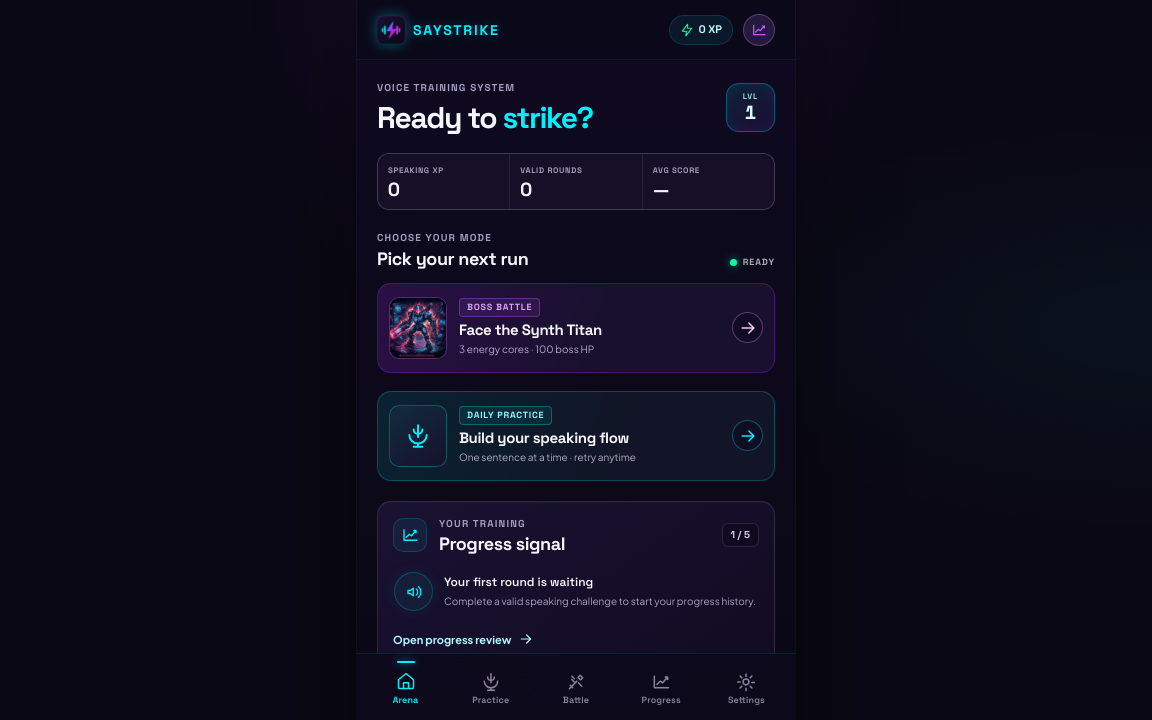
Test: SayStrike app shell and microphone recovery › keeps local recording available when server speech evaluation is not configured
What coordinates should you click on to do the following:
click the button "Build your speaking flow"
I would click on:
 (576, 436)
Its box is [377,391,775,481].
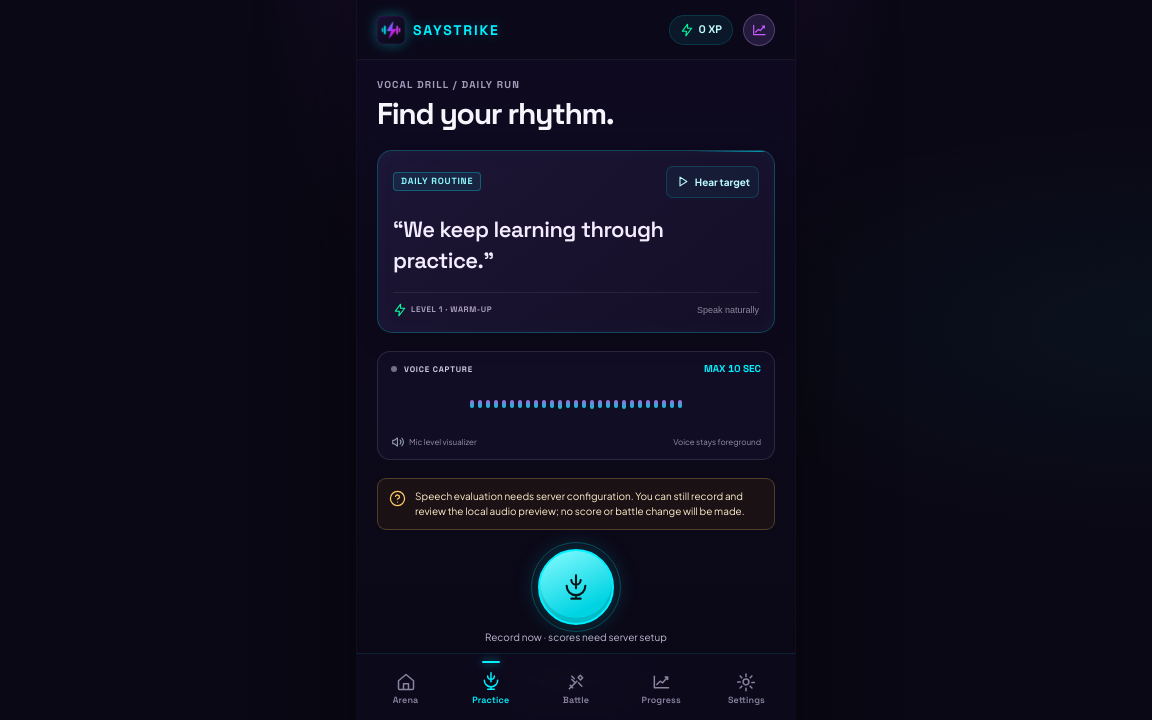
expect the button named "start recording" is enabled: met, box [538,549,614,625]
expect the text "record and review the local audio preview" is shown: met, box [415,490,745,517]
